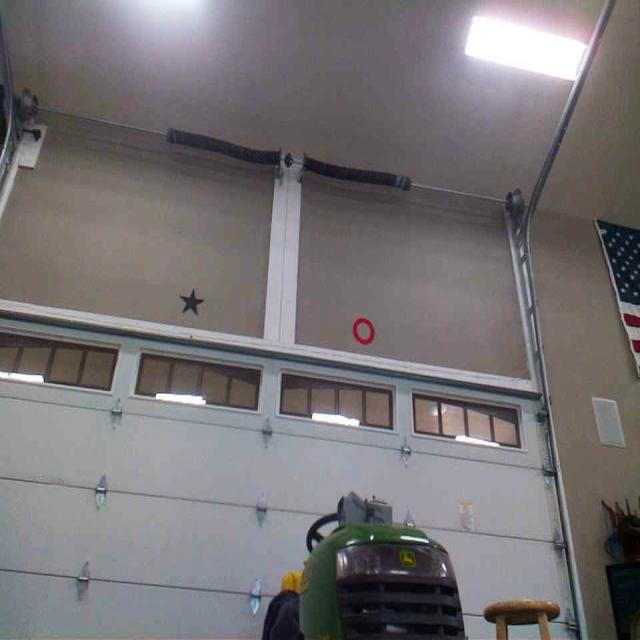ring_red: (352, 316, 376, 344)
star_black: (179, 287, 203, 316)
